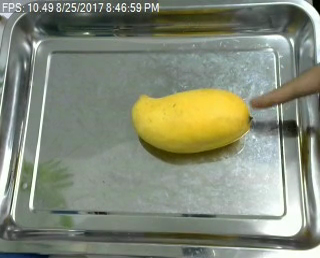Mango: (130, 87, 255, 155)
